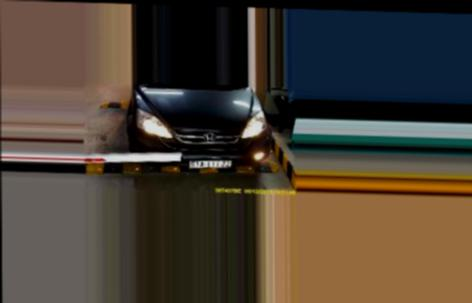License_Plate: (187, 157, 231, 169)
